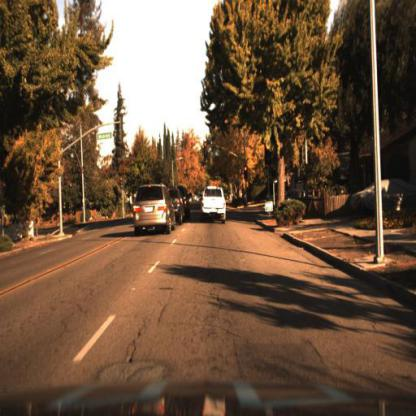car: (133, 181, 175, 232), (203, 183, 227, 228)
